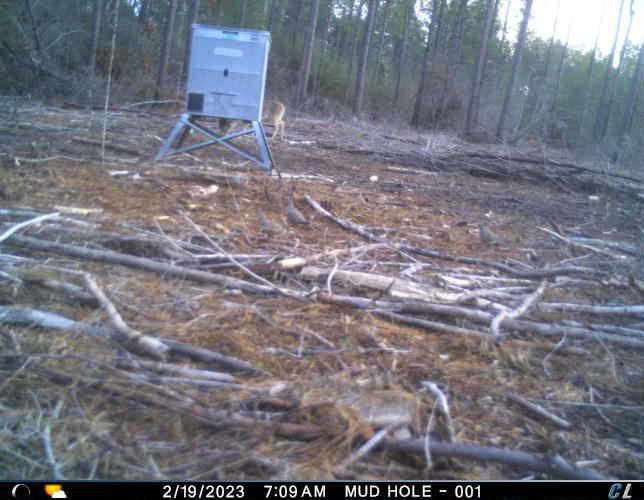Deer: (216, 92, 289, 147)
